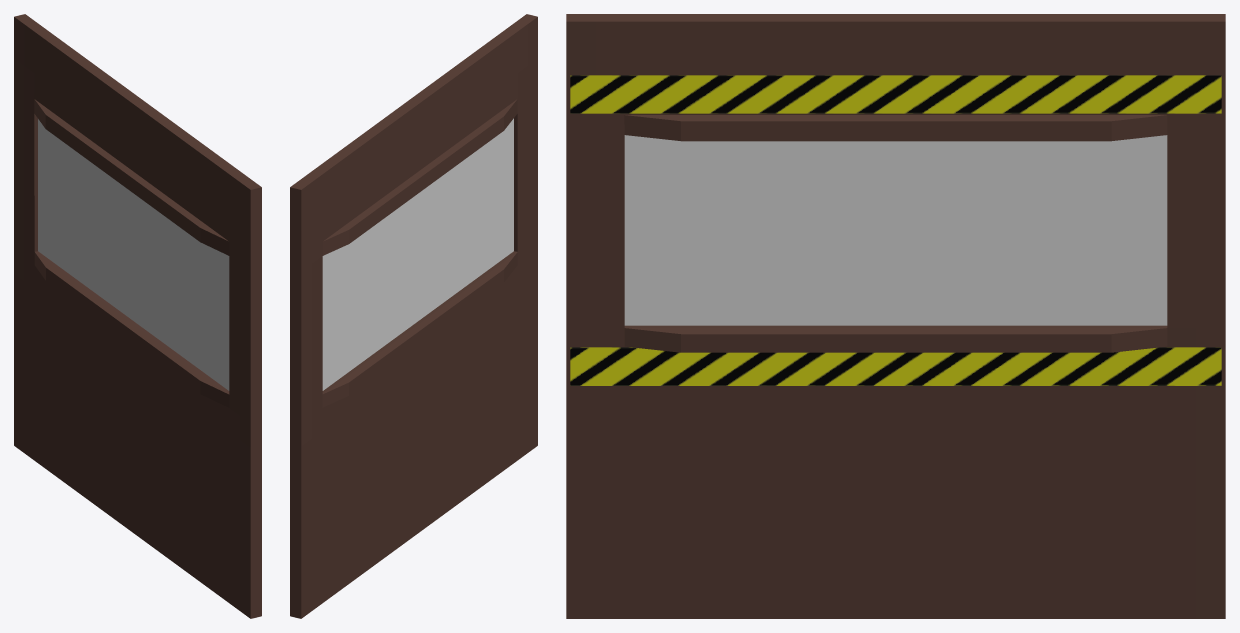
The model's file is Observation.fbx.
3 views of the same model, side by side, from view 1: azimuth 30°, elevation 25°; view 2: azimuth 150°, elevation 25°; view 3: azimuth 270°, elevation 25° (orthographic). The views are drawn at different scales.
Visible parts, largest first — view 1: Wall; view 2: Wall; view 3: Wall, Caution Tape, Caution Tape.001.
Boxes of the visible parts, x1,y1,x2,y2 form: Wall: (14,14,261,618); Wall: (290,14,537,618); Wall: (566,14,1225,618); Caution Tape: (570,75,1221,113); Caution Tape.001: (570,347,1221,385).
Size of the model in its own units: 24.28 by 341 by 341.
